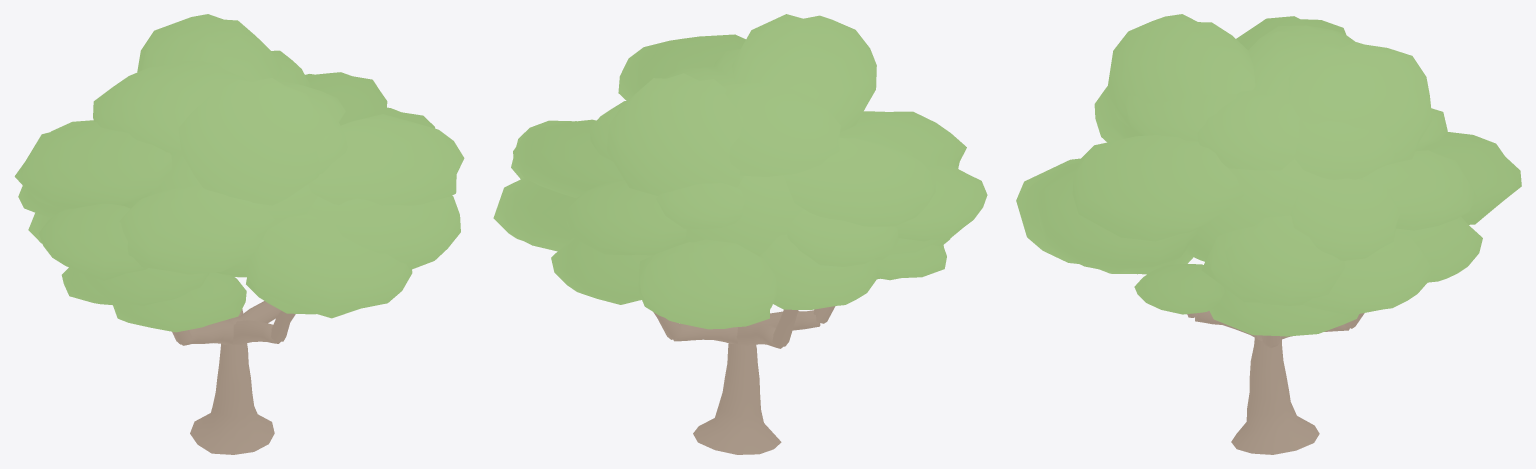
File: Blender_Oak_2.glb
3 views of the same model, side by side, from view 1: azimuth 30°, elevation 25°; view 2: azimuth 150°, elevation 25°; view 3: azimuth 270°, elevation 25° (orthographic). The views are drawn at different scales.
Parts seen in each view (by area): view 1: Blender_Oak_2; view 2: Blender_Oak_2; view 3: Blender_Oak_2.
Part boxes in pixels (bbox=[...]): Blender_Oak_2: bbox=[14, 14, 464, 454]; Blender_Oak_2: bbox=[493, 14, 987, 454]; Blender_Oak_2: bbox=[1016, 14, 1521, 454].
Bounding box in the file's own units: 19.44 × 17.3 × 19.36.
